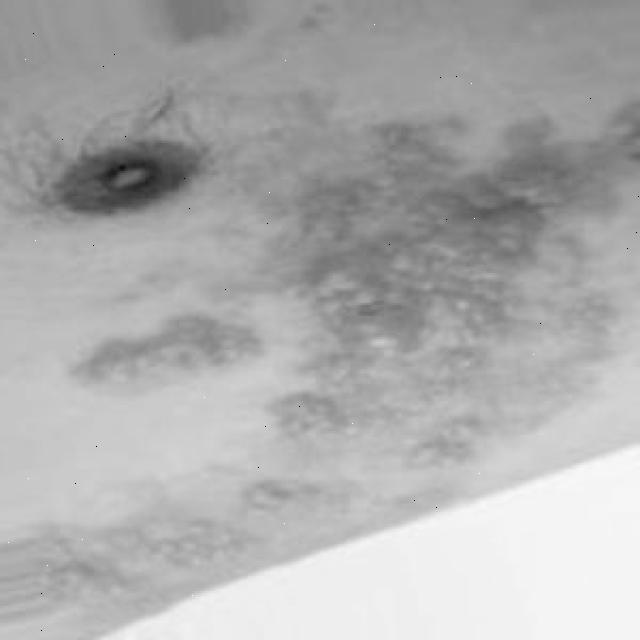Shingles: (78, 116, 640, 462)
